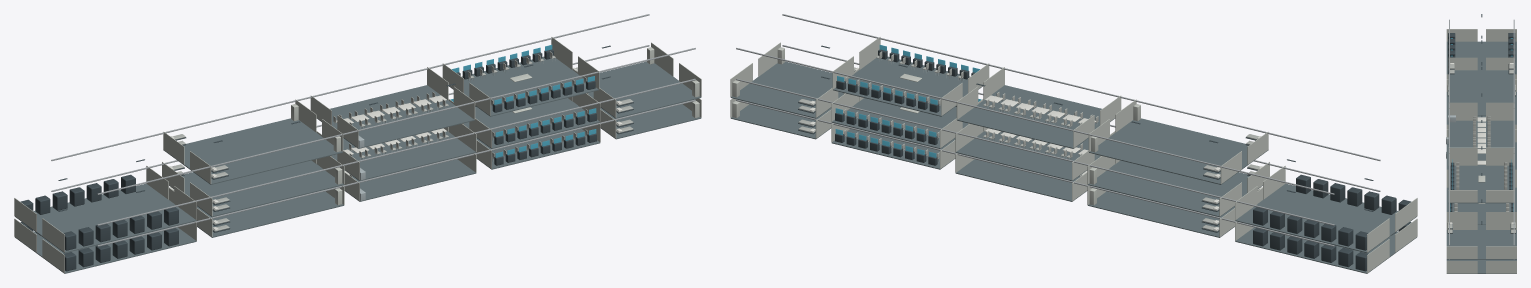
File: ATLAS_W_Interior.glb
3 renders of one model, left to right at view 1: azimuth 30°, elevation 25°; view 2: azimuth 150°, elevation 25°; view 3: azimuth 270°, elevation 25°, orthographic. The views are drawn at different scales.
Parts seen in each view (by area): view 1: INT_GenericArrangement__floor, INT_GenericArrangement__interior, INT_GenericArrangement__darkdeck, INT_Additional_fittings__silver, INT_GenericArrangement__fabric, INT_GenericArrangement__screen, INT_GenericArrangement__white, INT_GenericArrangement__chrome; view 2: INT_GenericArrangement__floor, INT_GenericArrangement__interior, INT_GenericArrangement__darkdeck, INT_Additional_fittings__silver, INT_GenericArrangement__fabric, INT_GenericArrangement__screen, INT_GenericArrangement__white, INT_GenericArrangement__chrome; view 3: INT_GenericArrangement__floor, INT_GenericArrangement__interior, INT_GenericArrangement__fabric, INT_GenericArrangement__darkdeck, INT_Additional_fittings__silver, INT_GenericArrangement__white, INT_GenericArrangement__screen, INT_GenericArrangement__chrome, INT_Additional_fittings__darkdeck.
Boxes of the visible parts, box(x1,y1,x2,y2) form: INT_GenericArrangement__floor: box(14, 56, 701, 273); INT_GenericArrangement__interior: box(14, 37, 701, 273); INT_GenericArrangement__darkdeck: box(20, 49, 633, 271); INT_Additional_fittings__silver: box(51, 14, 695, 246); INT_GenericArrangement__fabric: box(171, 51, 633, 231); INT_GenericArrangement__screen: box(450, 45, 596, 157); INT_GenericArrangement__white: box(169, 67, 622, 230); INT_GenericArrangement__chrome: box(334, 58, 586, 200); INT_GenericArrangement__floor: box(730, 56, 1417, 273); INT_GenericArrangement__interior: box(730, 37, 1417, 273); INT_GenericArrangement__darkdeck: box(798, 49, 1411, 271); INT_Additional_fittings__silver: box(736, 14, 1380, 246); INT_GenericArrangement__fabric: box(798, 51, 1260, 231); INT_GenericArrangement__screen: box(835, 45, 981, 157); INT_GenericArrangement__white: box(809, 67, 1262, 230); INT_GenericArrangement__chrome: box(845, 58, 1097, 161); INT_GenericArrangement__floor: box(1446, 41, 1516, 273); INT_GenericArrangement__interior: box(1446, 29, 1516, 273); INT_GenericArrangement__fabric: box(1447, 63, 1515, 233); INT_GenericArrangement__darkdeck: box(1447, 33, 1515, 233); INT_Additional_fittings__silver: box(1449, 19, 1514, 260); INT_GenericArrangement__white: box(1448, 63, 1515, 223); INT_GenericArrangement__screen: box(1450, 38, 1513, 211); INT_GenericArrangement__chrome: box(1446, 115, 1455, 158); INT_Additional_fittings__darkdeck: box(1481, 14, 1482, 224).
Size of the model in its own units: 82.07 by 8.7 by 11.3.
Materials: 9 (1 with a texture image).
